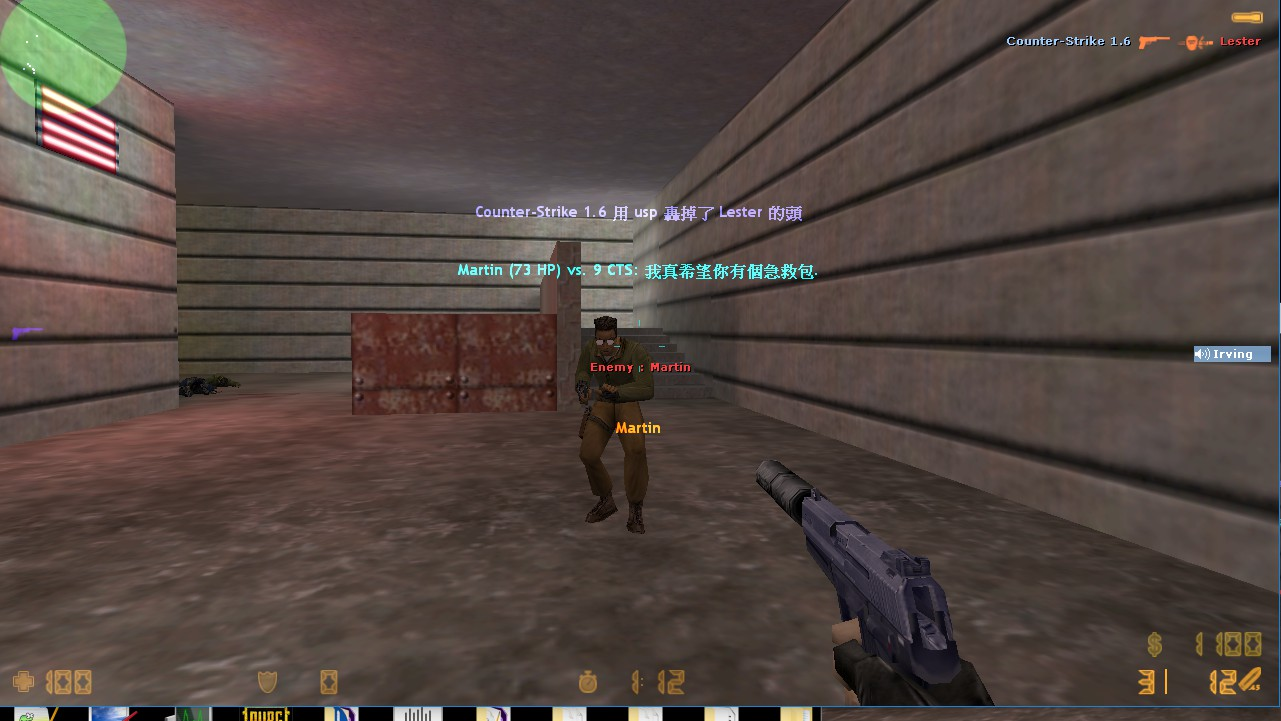person: (571, 316, 670, 548)
